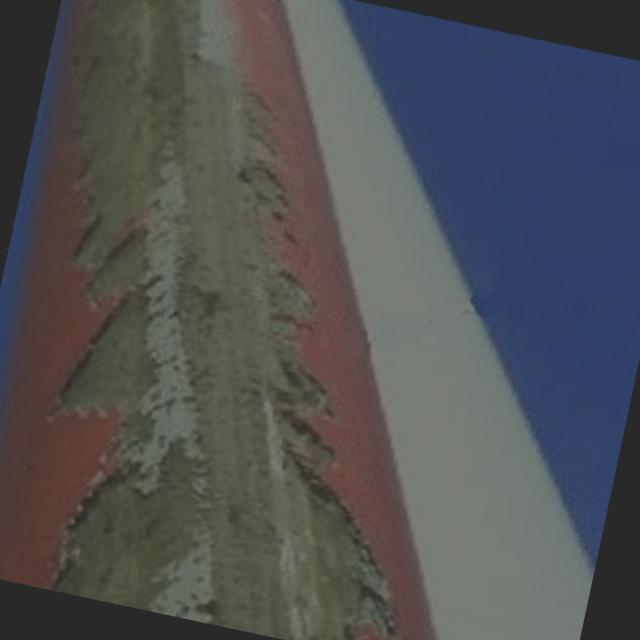corrosion: (11, 263, 460, 640), (39, 0, 360, 303)
